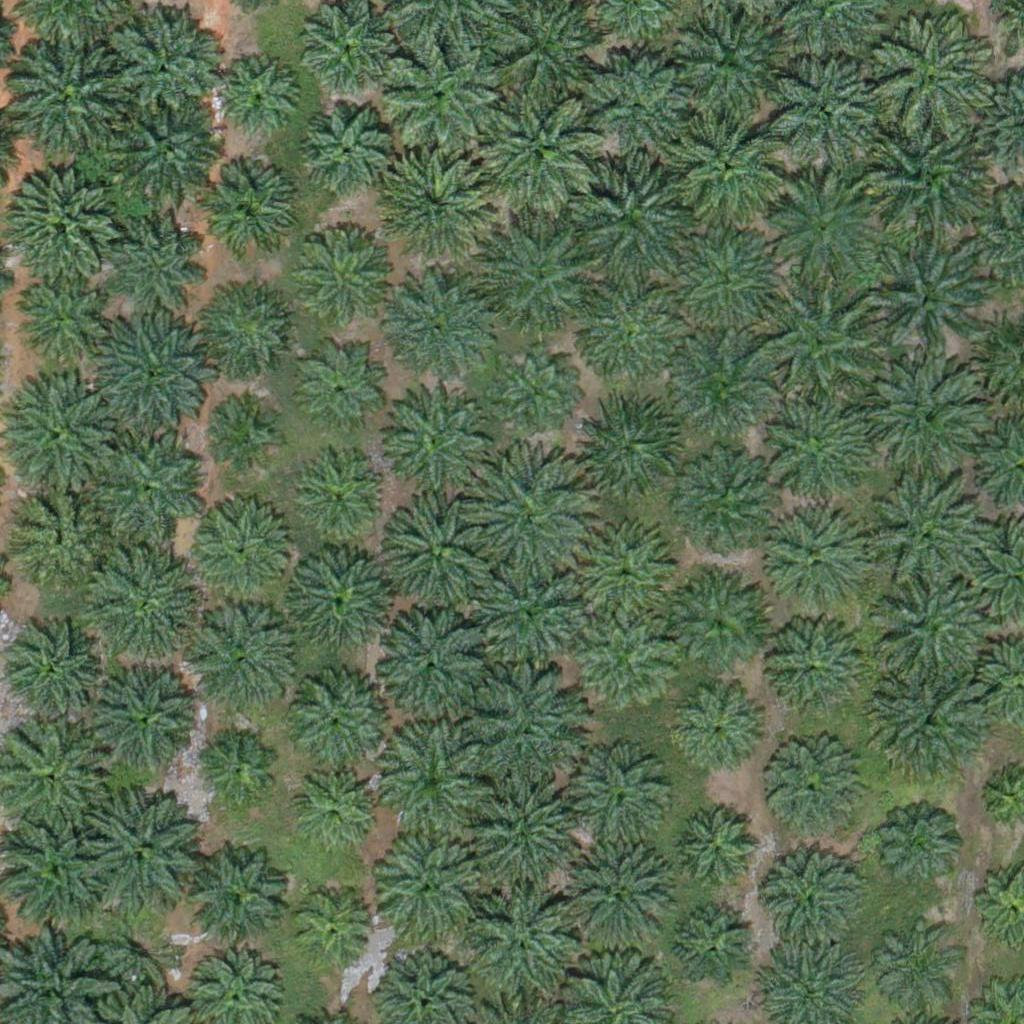Kelapa_Sawit: (862, 13, 987, 139), (858, 121, 983, 247), (866, 356, 991, 482), (755, 288, 880, 414), (461, 450, 586, 576), (483, 89, 608, 215), (82, 779, 207, 905), (376, 718, 501, 844), (458, 871, 583, 997), (464, 657, 589, 783), (862, 645, 987, 771), (458, 773, 583, 898), (869, 483, 982, 597), (376, 151, 489, 265), (380, 496, 493, 610), (283, 544, 396, 658), (758, 731, 871, 845), (671, 229, 784, 342), (674, 113, 787, 226), (572, 160, 685, 273), (486, 222, 599, 335), (387, 36, 500, 149), (380, 385, 493, 498), (188, 499, 301, 612), (90, 548, 203, 661), (94, 314, 207, 427), (6, 43, 119, 156), (3, 163, 116, 276), (366, 831, 479, 944), (561, 603, 674, 716), (11, 381, 123, 495), (376, 612, 488, 726), (185, 605, 297, 719), (871, 250, 983, 363), (775, 173, 887, 286), (668, 7, 780, 120), (571, 276, 683, 389), (474, 559, 586, 672), (378, 274, 490, 387), (93, 432, 205, 545), (112, 94, 224, 207), (107, 7, 219, 120), (85, 663, 197, 776), (290, 667, 402, 780), (560, 846, 672, 959), (752, 841, 864, 954), (773, 61, 873, 162), (674, 339, 774, 440), (588, 55, 688, 156), (573, 519, 673, 620), (110, 201, 210, 302), (565, 740, 665, 841), (877, 574, 977, 675), (762, 405, 862, 505), (770, 506, 870, 606), (673, 574, 773, 674), (674, 446, 774, 546), (199, 163, 299, 263), (14, 484, 114, 584), (195, 852, 295, 952), (671, 678, 771, 778), (763, 618, 863, 718), (587, 403, 675, 491), (296, 453, 384, 541), (210, 53, 298, 141), (9, 277, 97, 365), (303, 229, 390, 317), (302, 103, 389, 191), (204, 284, 291, 372), (10, 626, 97, 714), (306, 355, 381, 431), (205, 736, 280, 812), (676, 807, 751, 883), (500, 345, 575, 420), (302, 774, 377, 849), (299, 899, 374, 974), (676, 898, 751, 973), (885, 921, 960, 996), (888, 805, 963, 880), (213, 403, 276, 466), (119, 926, 181, 989)
